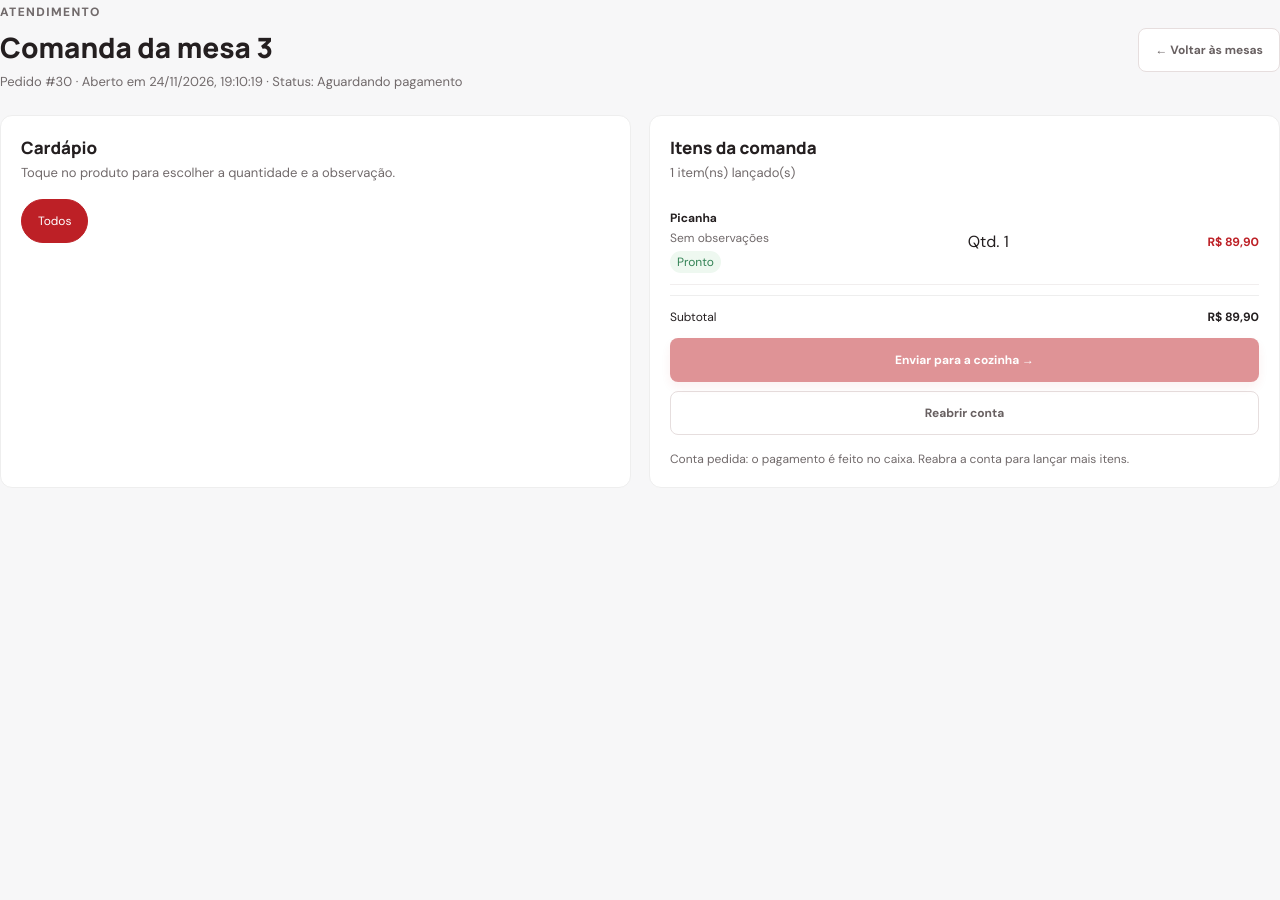
Scenario: Mesa aguardando pagamento e reabertura (spec 019) › Comanda: com a conta pedida, "Reabrir conta" no lugar de "Pedir a conta", com motivo opcional
This screenshot has width=1280, height=900.
Expected: the text "Conta pedida: o pagamento é feito no caixa. Reabra a conta para lançar mais itens." is shown, [670,451,1129,467]
Expected: the button "Pedir a conta" is not shown
Click the button "Reabrir conta".
click(964, 413)  # box [670,391,1259,435]
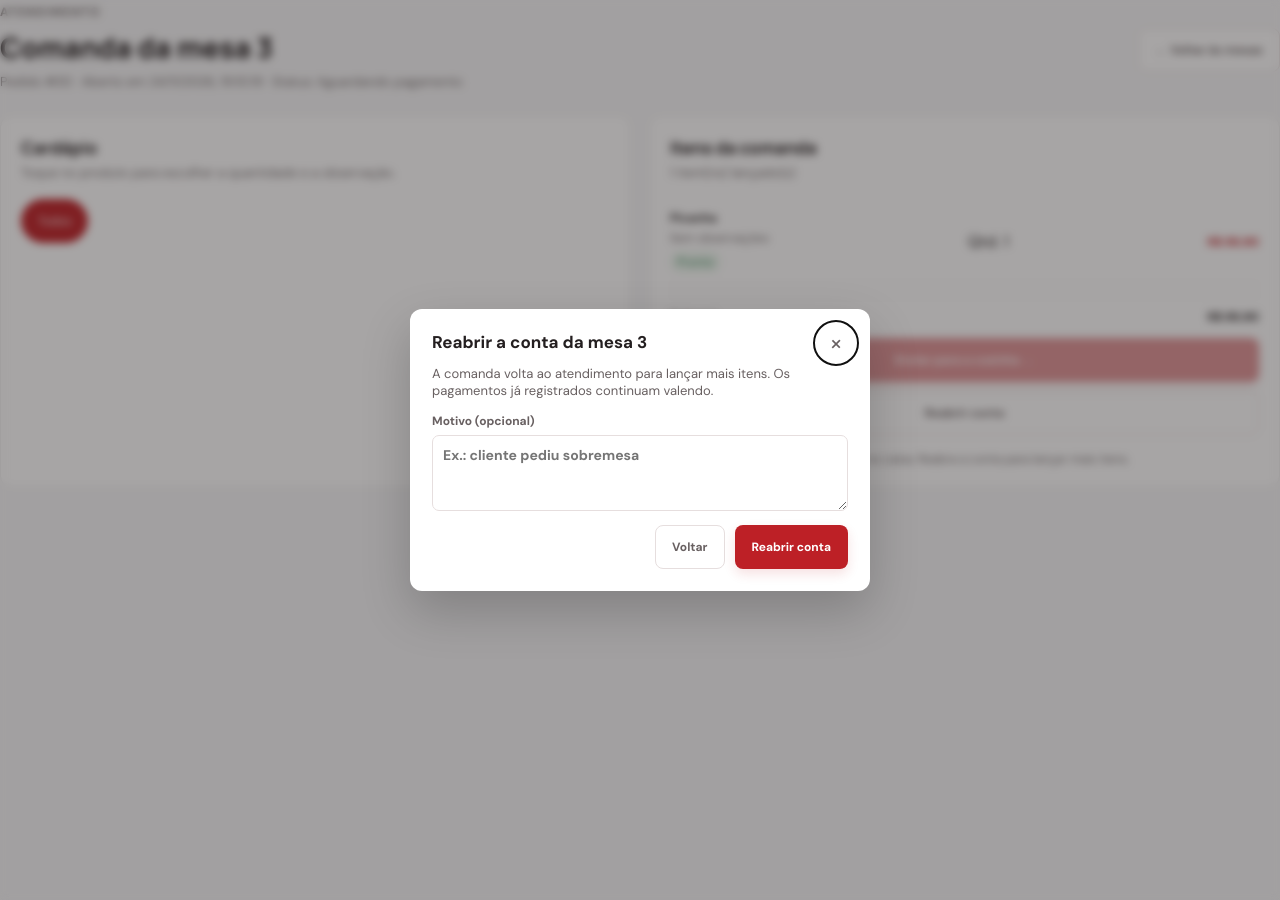
Type "  Sobremesa  " into the text box labelled "Motivo (opcional)".
click(640, 473); type("  Sobremesa  ")  # box [432,435,848,511]
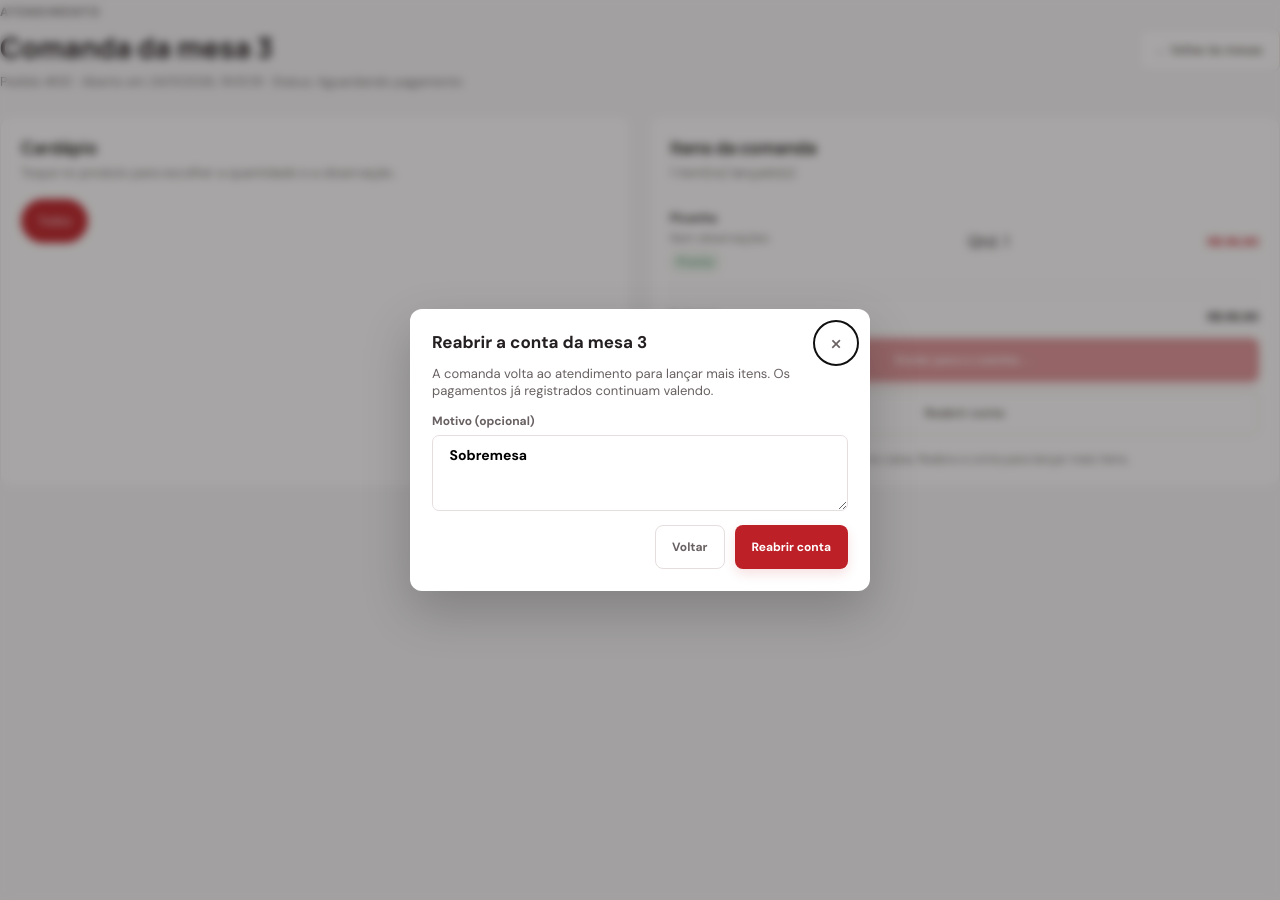
Click the button "Reabrir conta".
click(791, 547)  # box [734,525,848,569]
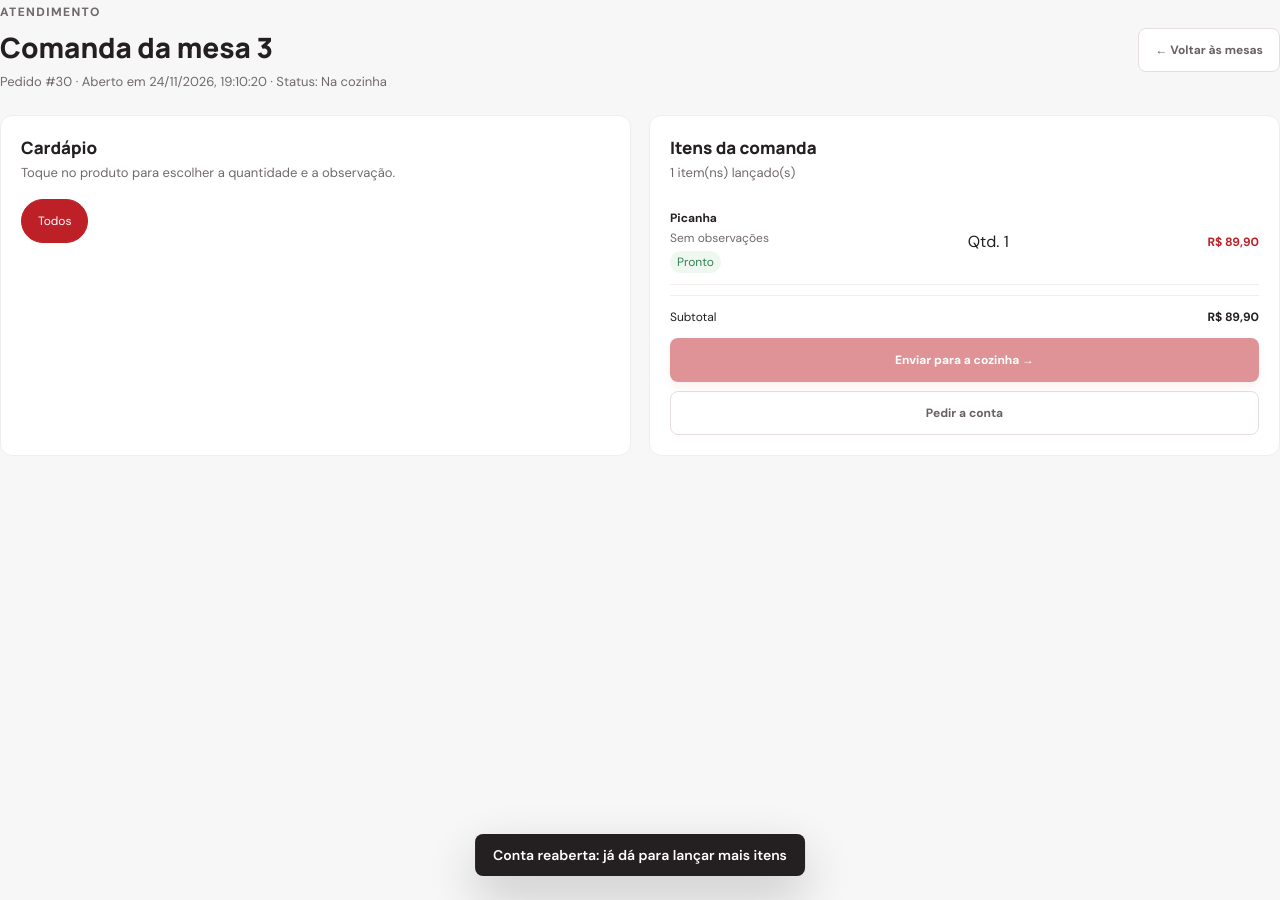
Expected: the button "Pedir a conta" is enabled, [670,391,1259,435]
Result: the text "Conta reaberta: já dá para lançar mais itens" is shown at [475,834,805,876]
Result: the button "Reabrir conta" is gone
